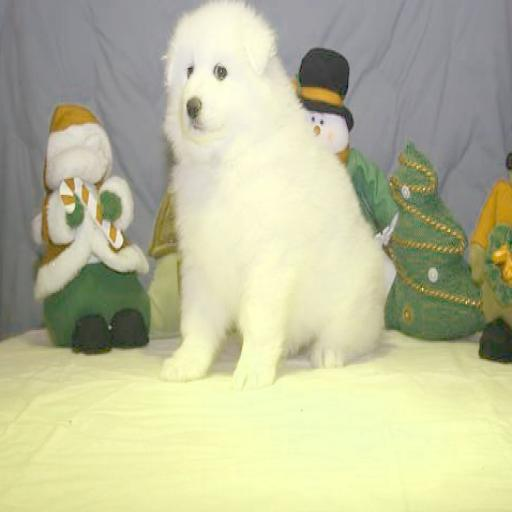dog_face: (154, 0, 265, 142)
